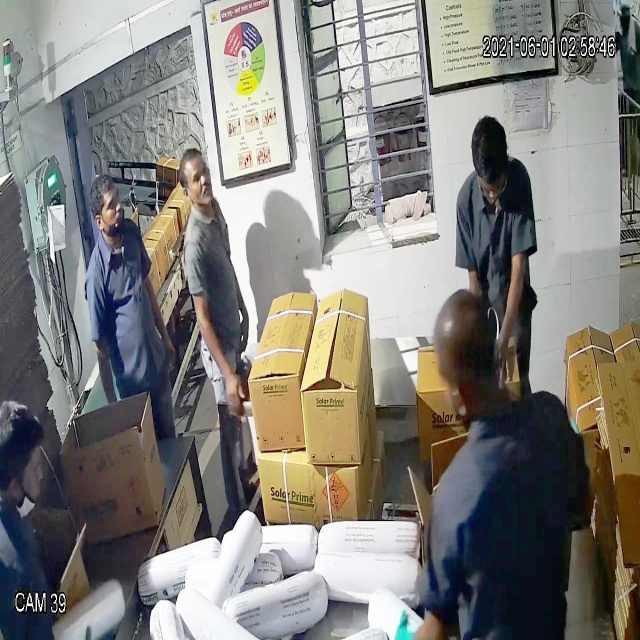Sin_gafas: (176, 151, 216, 196)
